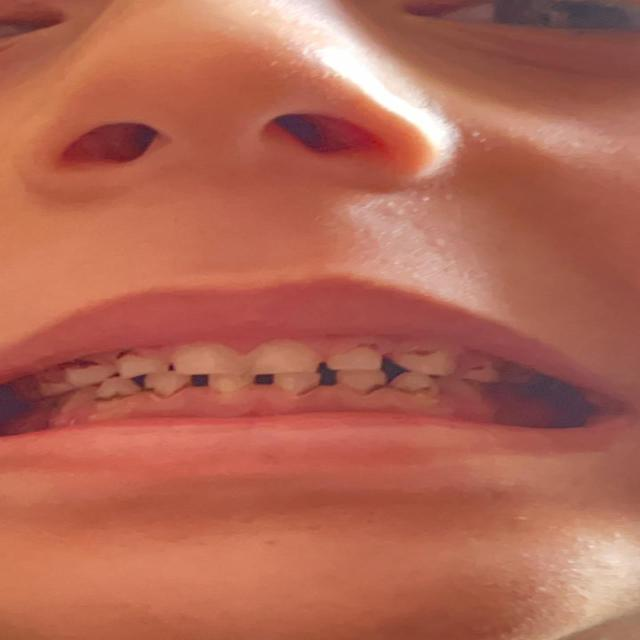tooth: (266, 338, 331, 380), (116, 353, 166, 377), (191, 346, 231, 374), (210, 371, 258, 393), (144, 373, 196, 393), (338, 372, 388, 392), (341, 349, 378, 373), (414, 351, 451, 375), (397, 374, 439, 394), (279, 372, 320, 392), (67, 365, 106, 386), (31, 375, 62, 400), (103, 380, 141, 400), (467, 363, 495, 383), (510, 364, 526, 386)
